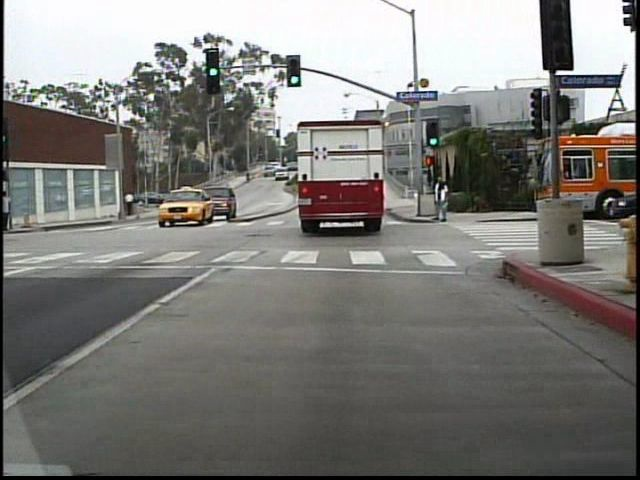person: (429, 174, 453, 226), (123, 187, 139, 220), (5, 189, 16, 233)
